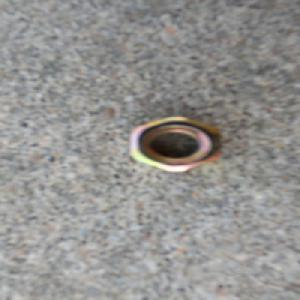Nut: (126, 114, 224, 174)
